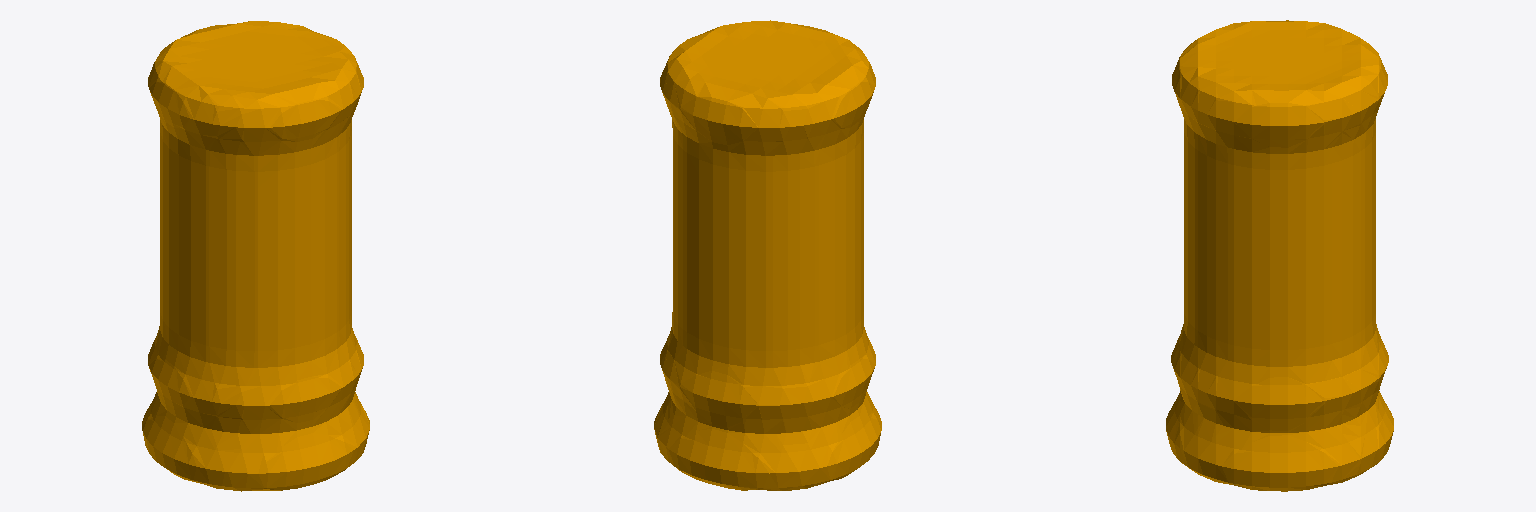
robot.urdf — cylinder_../../meshes/cylinders/cylinder_8.stl:
<?xml version="1.0" encoding="utf-8"?>  <robot name="cylinder_../../meshes/cylinders/cylinder_8.stl">   <link name="cylinder_../../meshes/cylinders/cylinder_8.stl">     <visual>       <geometry>         <mesh filename="../meshes/cylinders/cylinder_8.stl" scale="1 1 1"/>       </geometry>     </visual>     <collision>       <geometry>         <mesh filename="../meshes/cylinders/cylinder_8.stl" scale="1 1 1"/>       </geometry>     </collision>     <inertial>        <origin         xyz="0 0 0"         rpy="0 0 0" />       <mass value="0.28270288652162356"/>       <origin rpy="0 0 0" xyz="0 0 0"/>       <inertia ixx="0.00040869520889357577" ixy="-1.7268801091282627e-08" ixz="-1.2131068213006217e-08" iyy="0.00040869512379729657" iyz="-1.2530683746467865e-08" izz="0.00010918629521674677"/>     </inertial>   </link>  </robot>

--- Facts derived from the render (not from the file) ---
The picture shows the robot from 3 angles, left to right: view 1: azimuth 30°, elevation 25°; view 2: azimuth 150°, elevation 25°; view 3: azimuth 270°, elevation 25°; orthographic projection.
Robot: cylinder_../../meshes/cylinders/cylinder_8.stl — 1 links, 0 joints (none); root link cylinder_../../meshes/cylinders/cylinder_8.stl; default pose: every joint at zero.
Visible links, largest first — view 1: cylinder_../../meshes/cylinders/cylinder_8.stl; view 2: cylinder_../../meshes/cylinders/cylinder_8.stl; view 3: cylinder_../../meshes/cylinders/cylinder_8.stl.
Boxes of the visible links, left/top/right/bottom form: cylinder_../../meshes/cylinders/cylinder_8.stl: left=142, top=21, right=369, bottom=491; cylinder_../../meshes/cylinders/cylinder_8.stl: left=654, top=20, right=881, bottom=490; cylinder_../../meshes/cylinders/cylinder_8.stl: left=1166, top=20, right=1393, bottom=491.
Bounding box of the posed robot: 0.0633 × 0.0633 × 0.1204 m (x, y, z).
1 mesh visuals loaded from 1 distinct referenced files (1 binary STL).